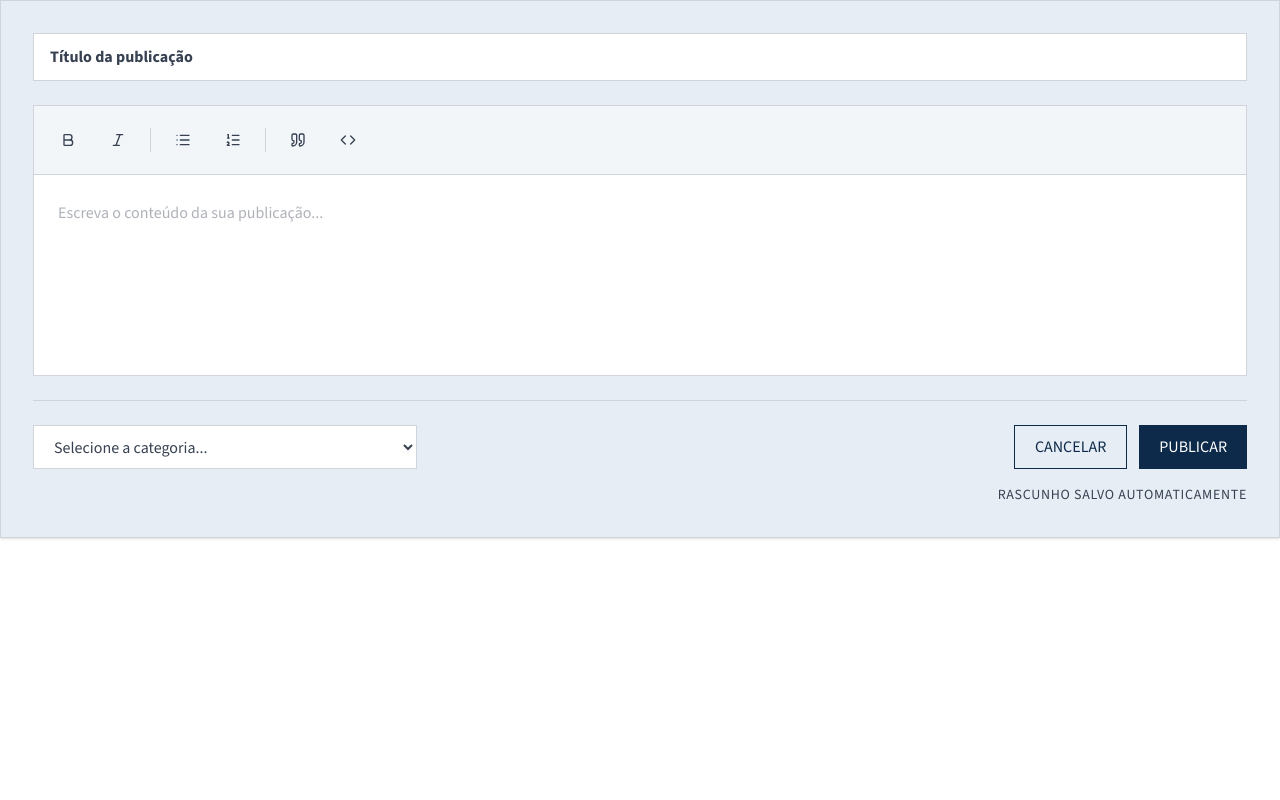
Test: PostEditor - interactive behaviors › prevents submission if category is empty
The image size is (1280, 800).
Type "Um título" into the field with placeholder "Título da publicação" at x=640, y=57, box 33,33 -> 1247,81
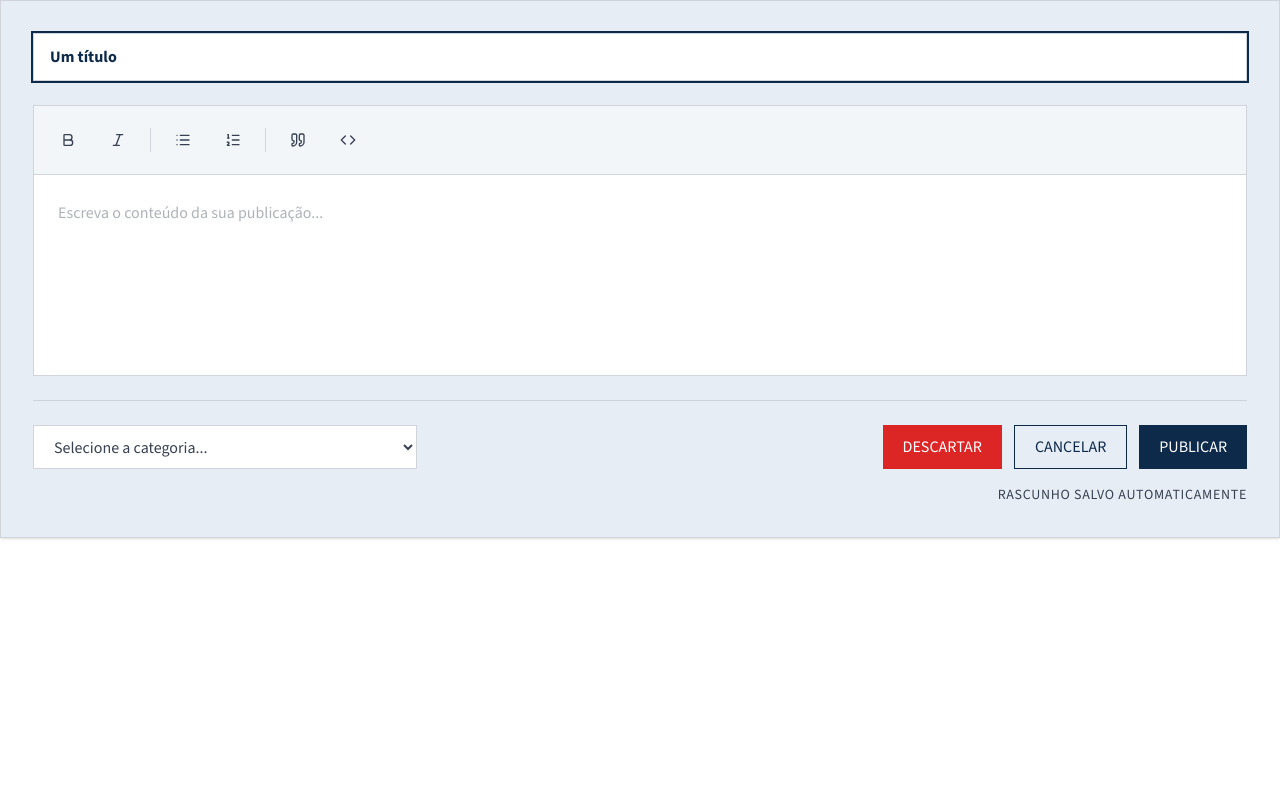
# Click submit
Click the button "PUBLICAR" at x=1193, y=447, box 1139,425 -> 1247,469
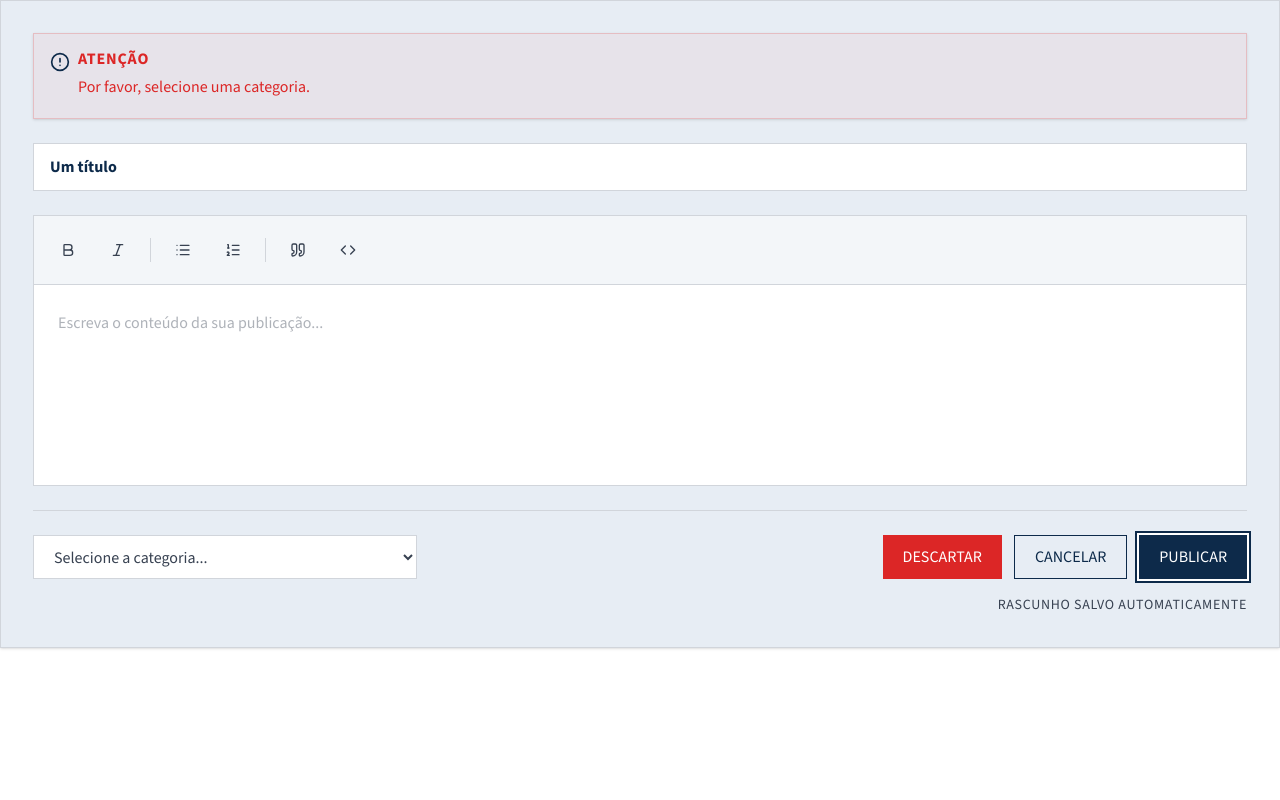
Check: the text "Por favor, selecione uma categoria." is shown, box 78,76 -> 310,97
